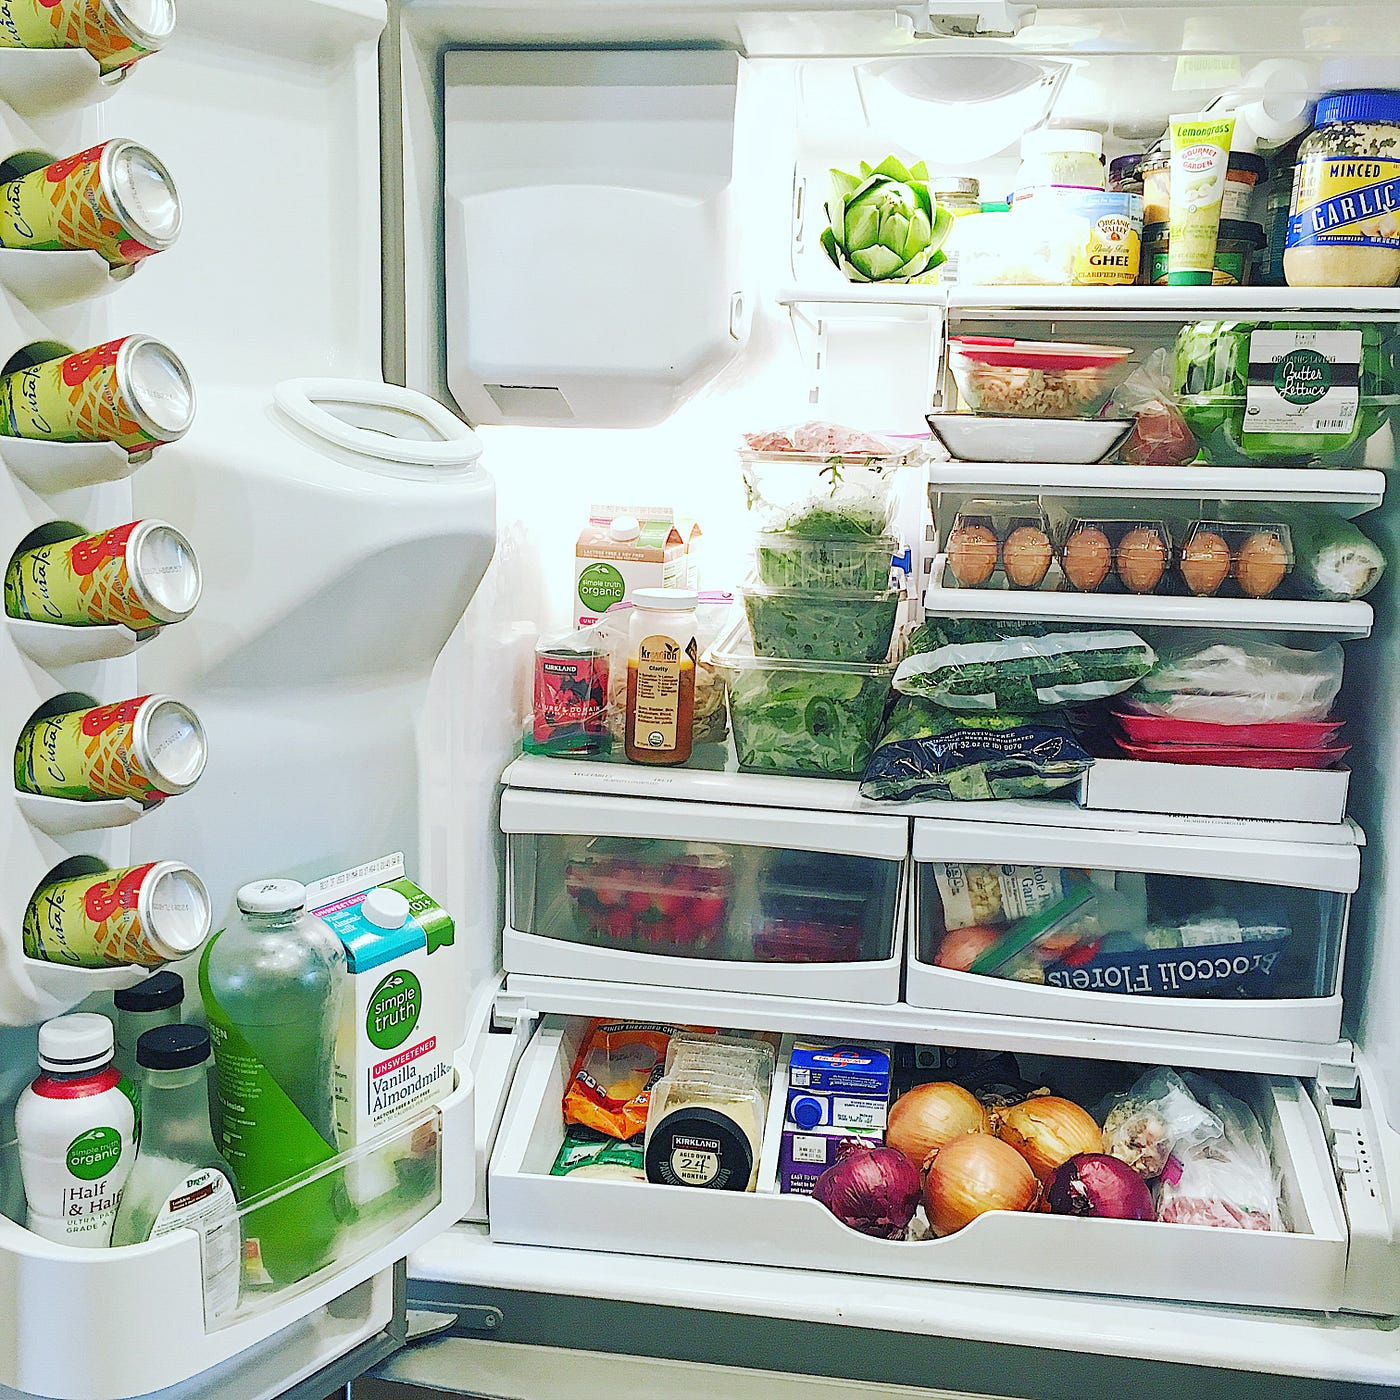Egg: (1233, 521, 1292, 594), (1179, 517, 1235, 592), (1058, 517, 1115, 588), (1117, 512, 1165, 592), (1003, 517, 1056, 587), (947, 517, 1000, 588)
Onion: (912, 1124, 1044, 1245), (987, 1081, 1126, 1188), (812, 1137, 929, 1253), (871, 1081, 994, 1183), (1051, 1145, 1147, 1227)
Spinach: (723, 658, 892, 791)
Strawberry: (562, 847, 746, 963)
